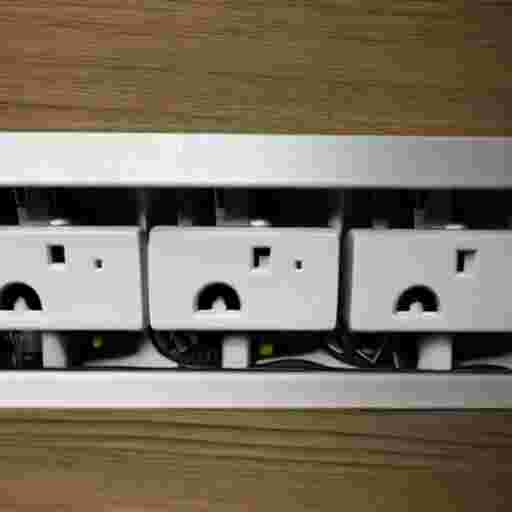power outlet: (148, 227, 338, 330), (344, 229, 511, 331)
